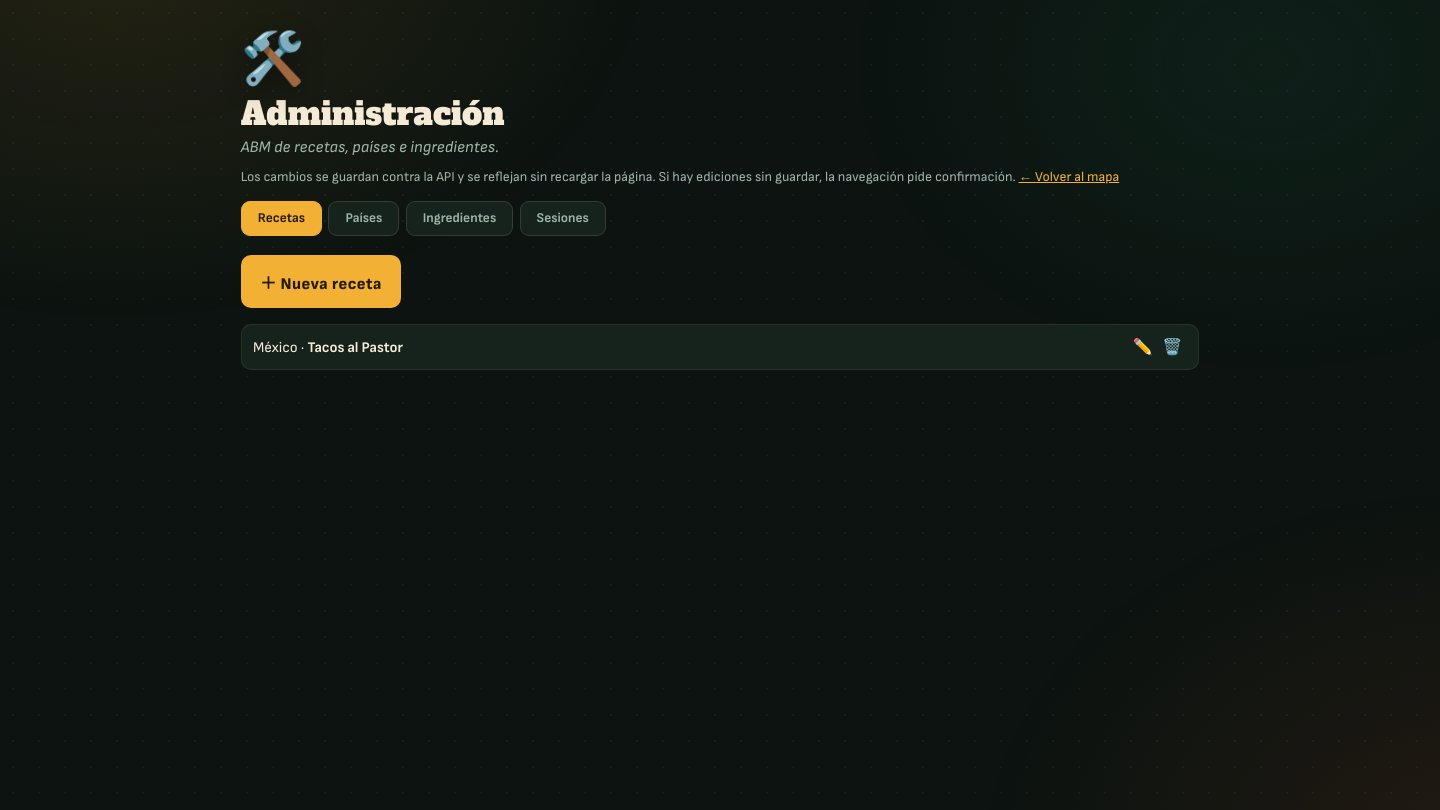
Test case: admin › dirty-guard: navegar con cambios pide confirmación in-app
Later steps or results of the test are not shown.
Expected: the heading "Administración" is shown, [241,92,505,136]
Step 1. Click the button "＋ Nueva receta" → click(321, 282), box [241,255,401,308]
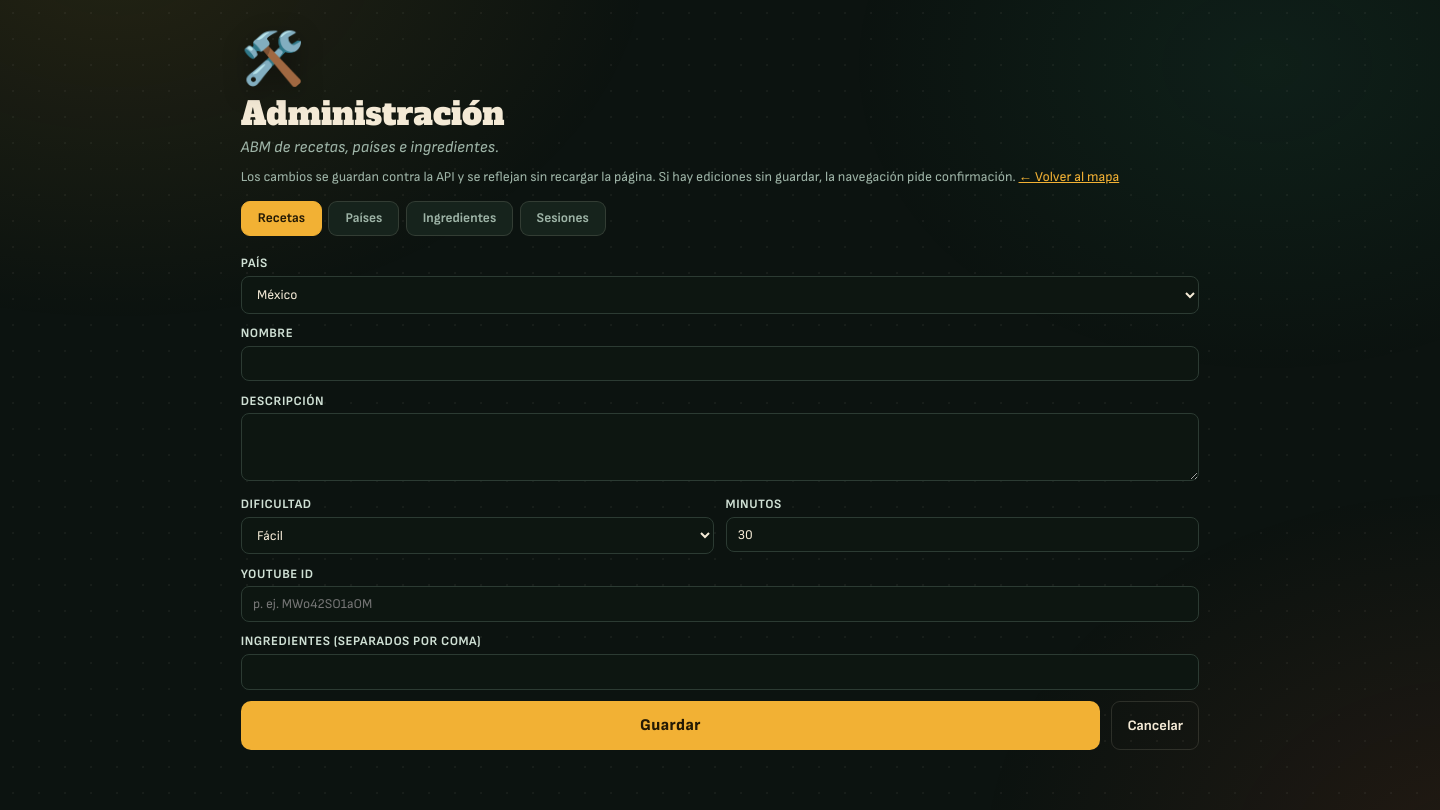
Step 2. Type "Receta sin guardar" into the field labelled "Nombre" → (720, 364), box [241,346,1199,381]
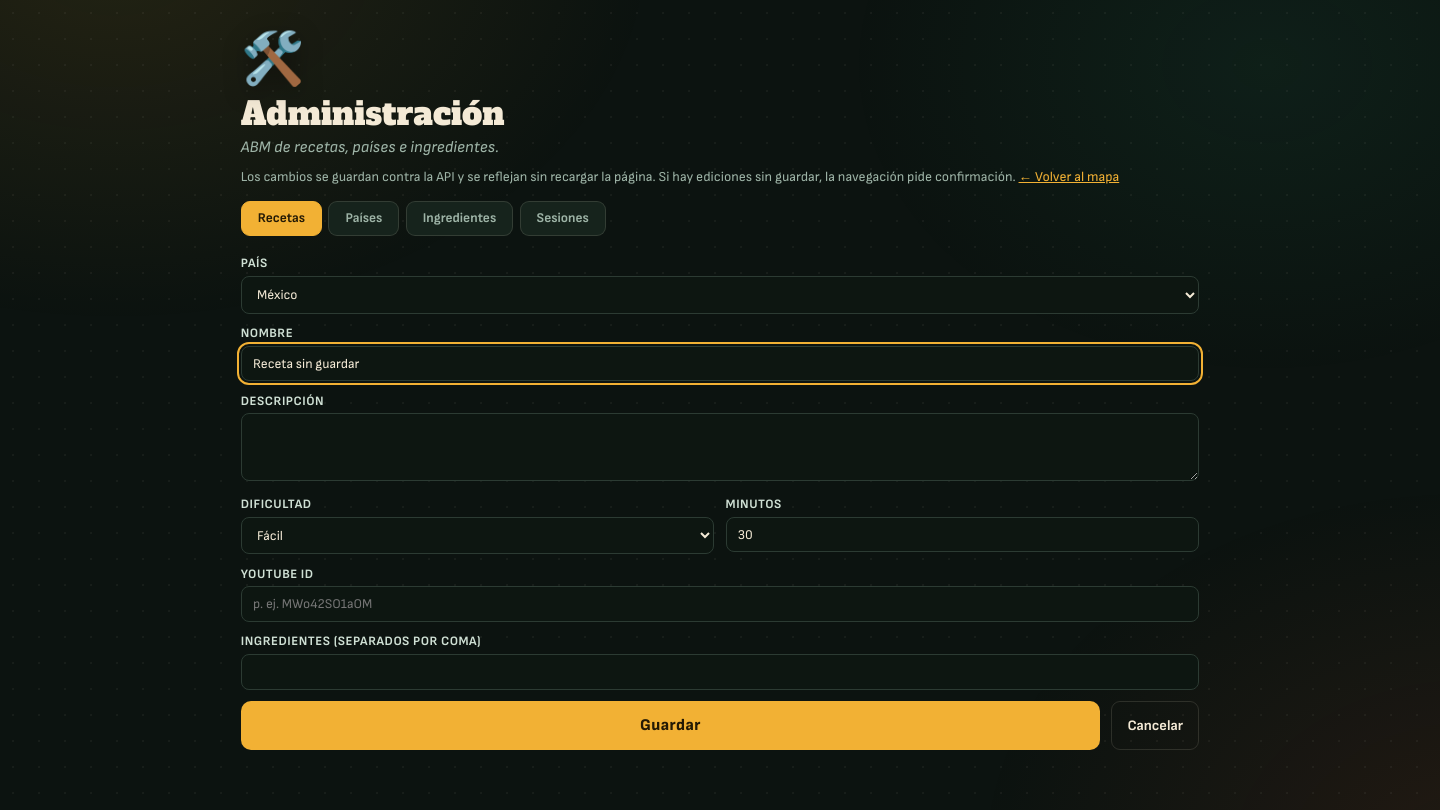
Step 3. Click the link "← Volver al mapa" → click(1069, 177), box [1018,169,1119,185]
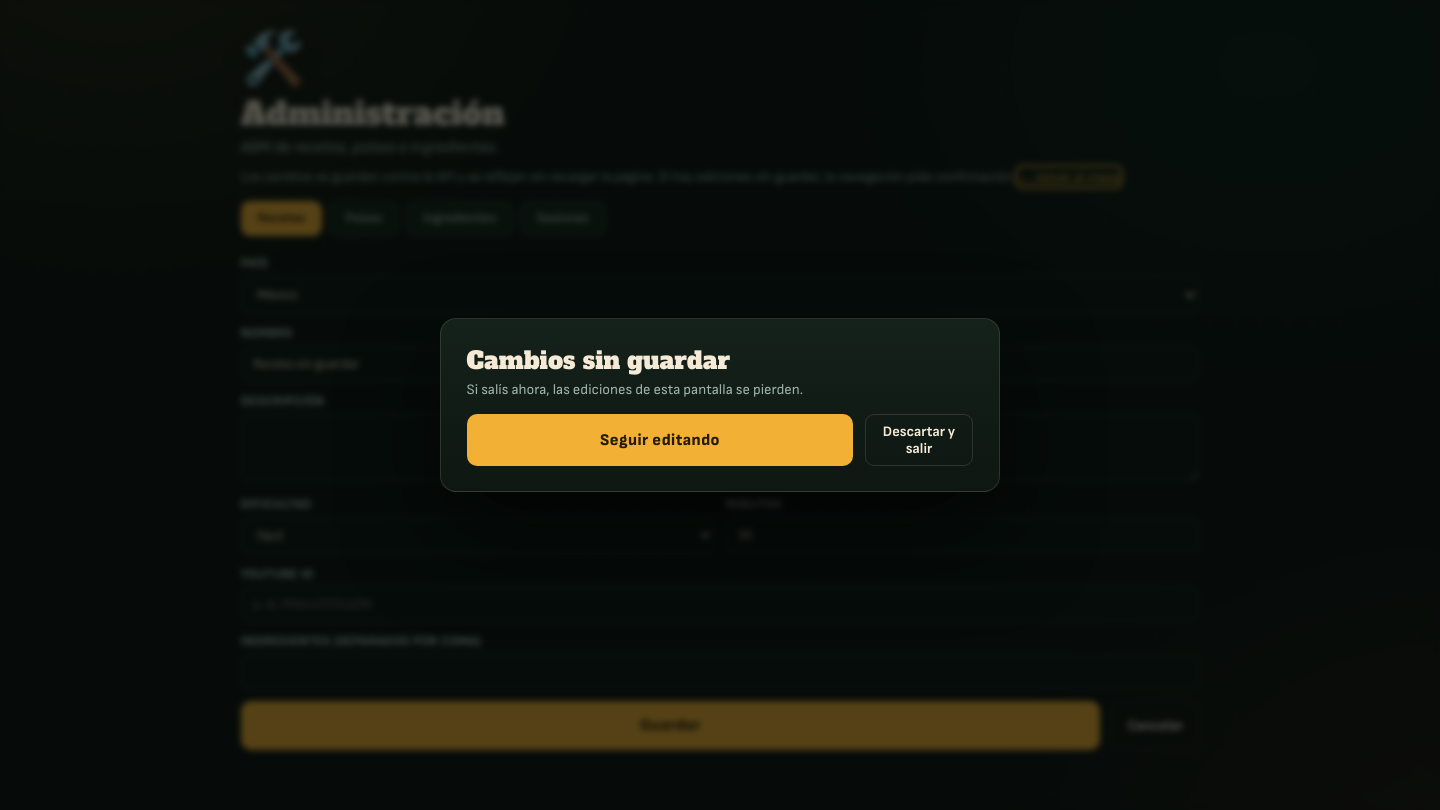
Expected: the dialog "Cambios sin guardar" is shown, [440,318,1000,492]
